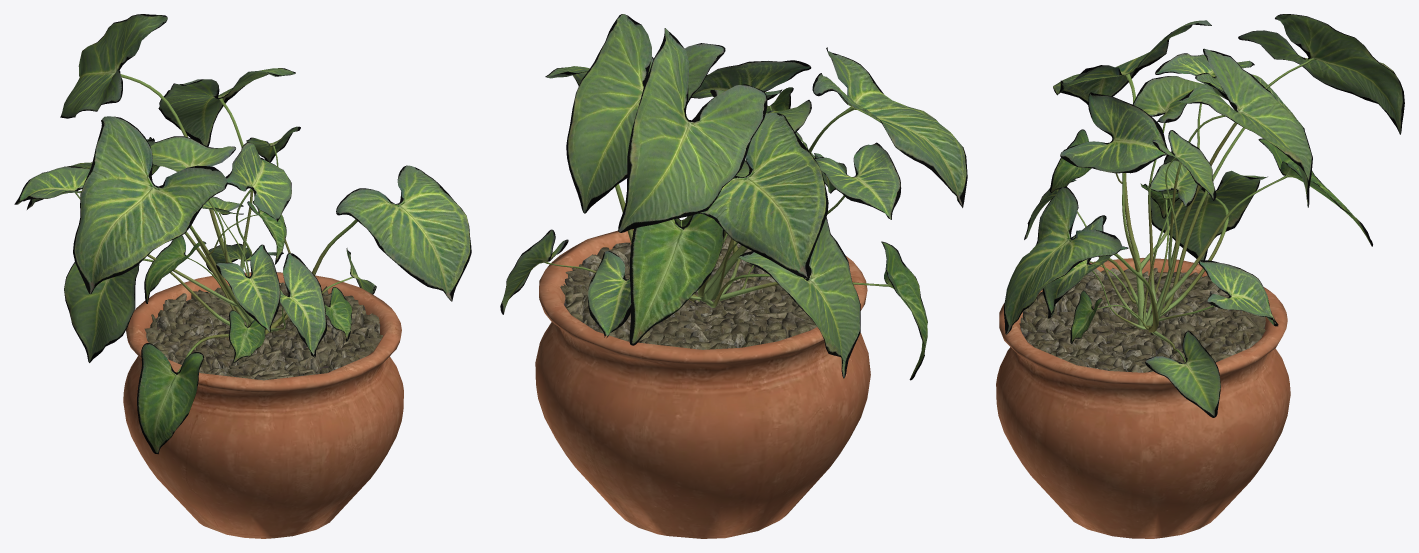
Rendered from potted_plant_02.glb.
The picture shows the model from 3 angles, left to right: view 1: azimuth 30°, elevation 25°; view 2: azimuth 150°, elevation 25°; view 3: azimuth 270°, elevation 25°; orthographic projection. The views are drawn at different scales.
Visible parts, largest first — view 1: potted_plant_02_leaves, potted_plant_02_pot; view 2: potted_plant_02_leaves, potted_plant_02_pot; view 3: potted_plant_02_pot, potted_plant_02_leaves.
Boxes of the visible parts, <box> form: potted_plant_02_leaves: <box>14,14,471,454</box>; potted_plant_02_pot: <box>123,272,403,538</box>; potted_plant_02_leaves: <box>500,14,967,380</box>; potted_plant_02_pot: <box>535,229,870,538</box>; potted_plant_02_pot: <box>996,258,1290,538</box>; potted_plant_02_leaves: <box>1004,14,1404,417</box>.
Bounding box in the file's own units: 0.7012 × 0.8406 × 0.6561.
Materials: 2 (2 with a texture image).
